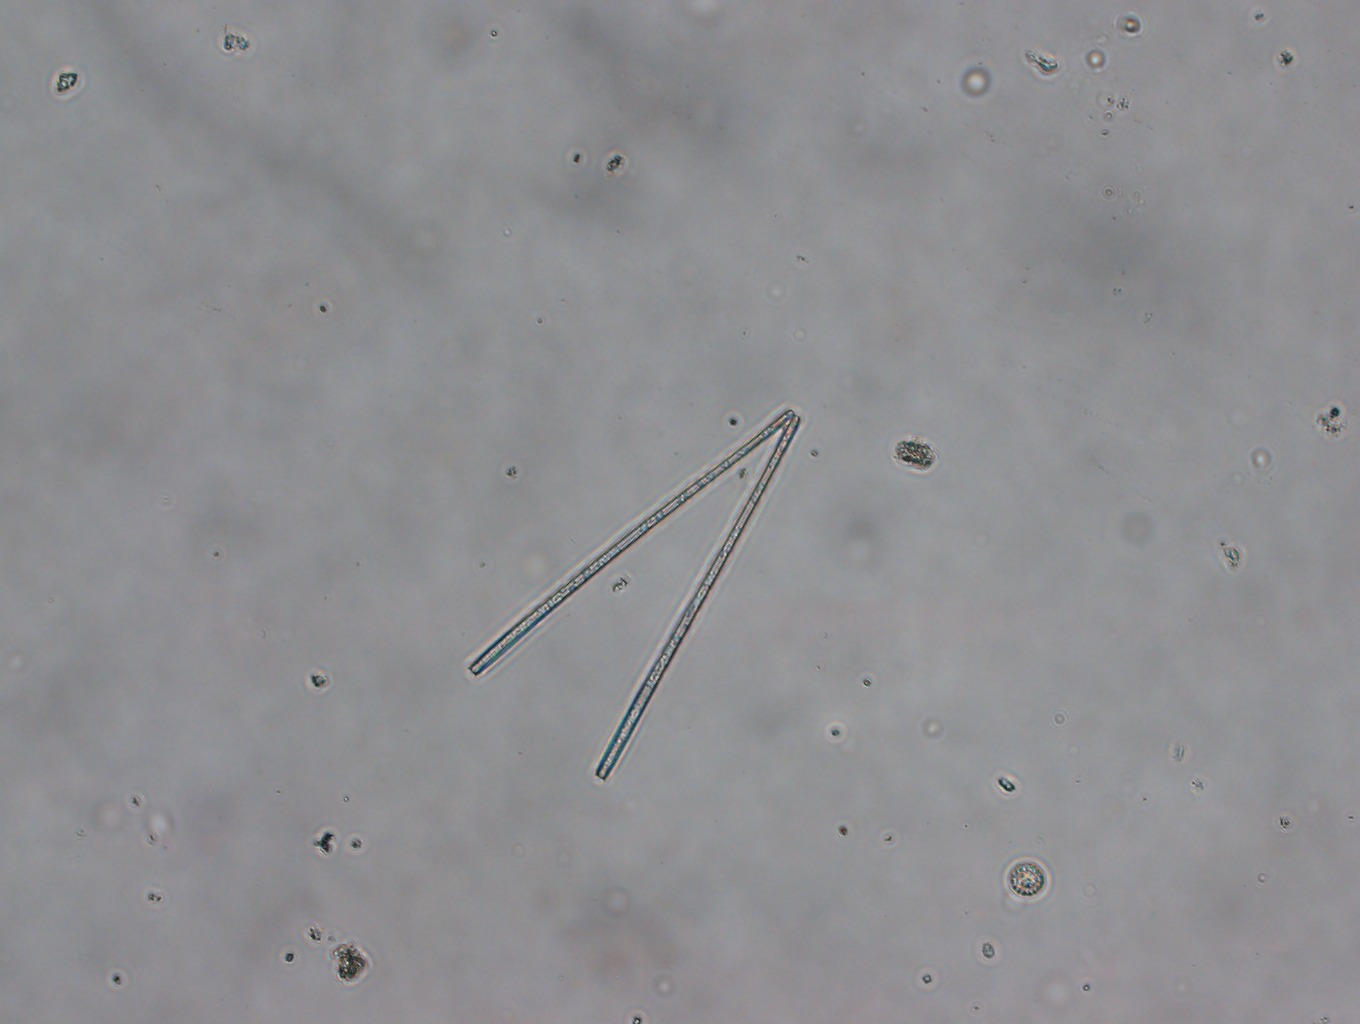thalassionema frauenfeldii: (466, 392, 810, 790)
